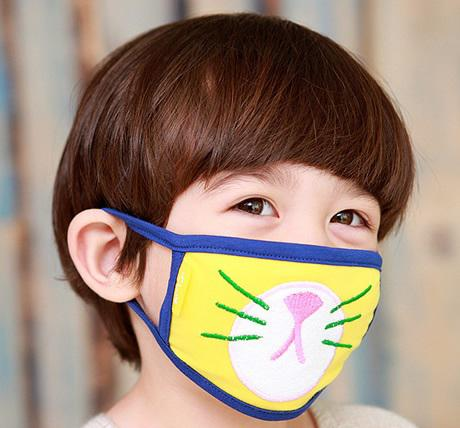OK: (144, 165, 387, 408)
